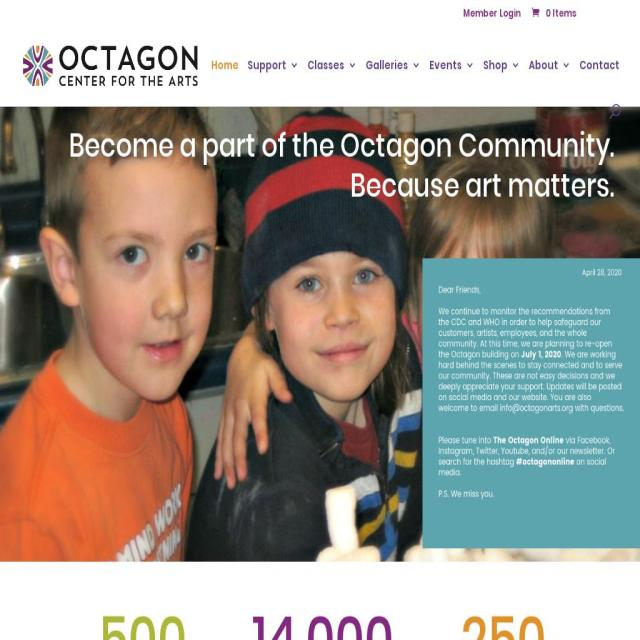button: (21, 58, 200, 72), (366, 59, 420, 104), (248, 59, 298, 104), (307, 59, 357, 104), (430, 59, 474, 104), (528, 59, 570, 104), (580, 59, 620, 104), (483, 59, 520, 104), (211, 59, 239, 104), (462, 8, 520, 26)
heading: (69, 122, 615, 168), (350, 162, 615, 208), (252, 595, 394, 640), (70, 607, 216, 640), (461, 595, 546, 640)
image: (422, 258, 640, 550), (21, 41, 200, 90)
text: (532, 6, 576, 20)
